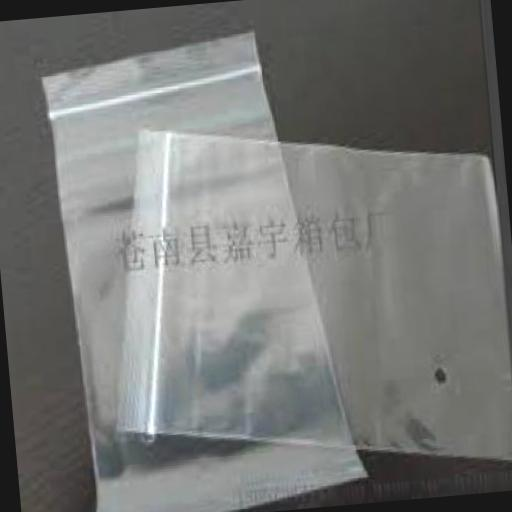plastic: (87, 94, 512, 496), (38, 21, 369, 512)
